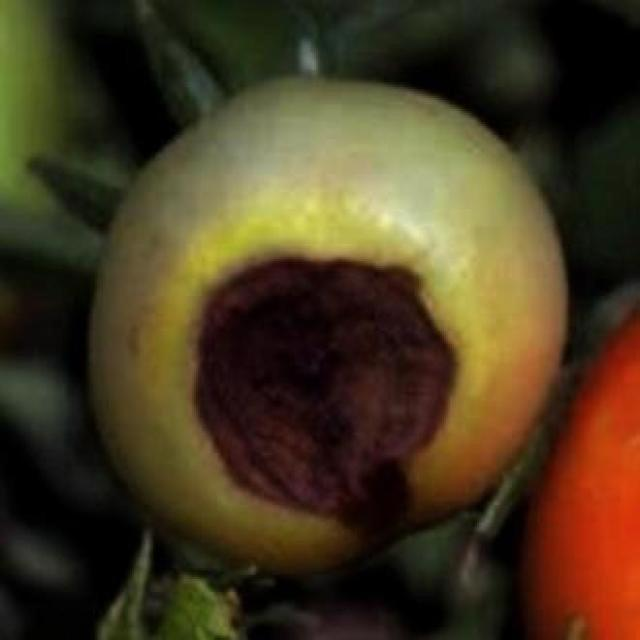Blossom End Rot Fruit: (125, 164, 305, 356)
